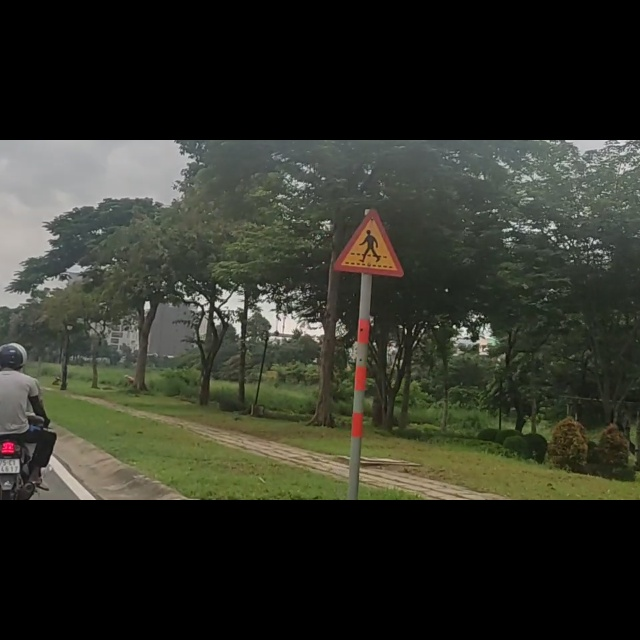bien_nguy_hiem: (335, 120, 403, 242)
